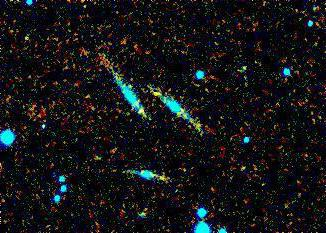star: (127, 81, 157, 111)
